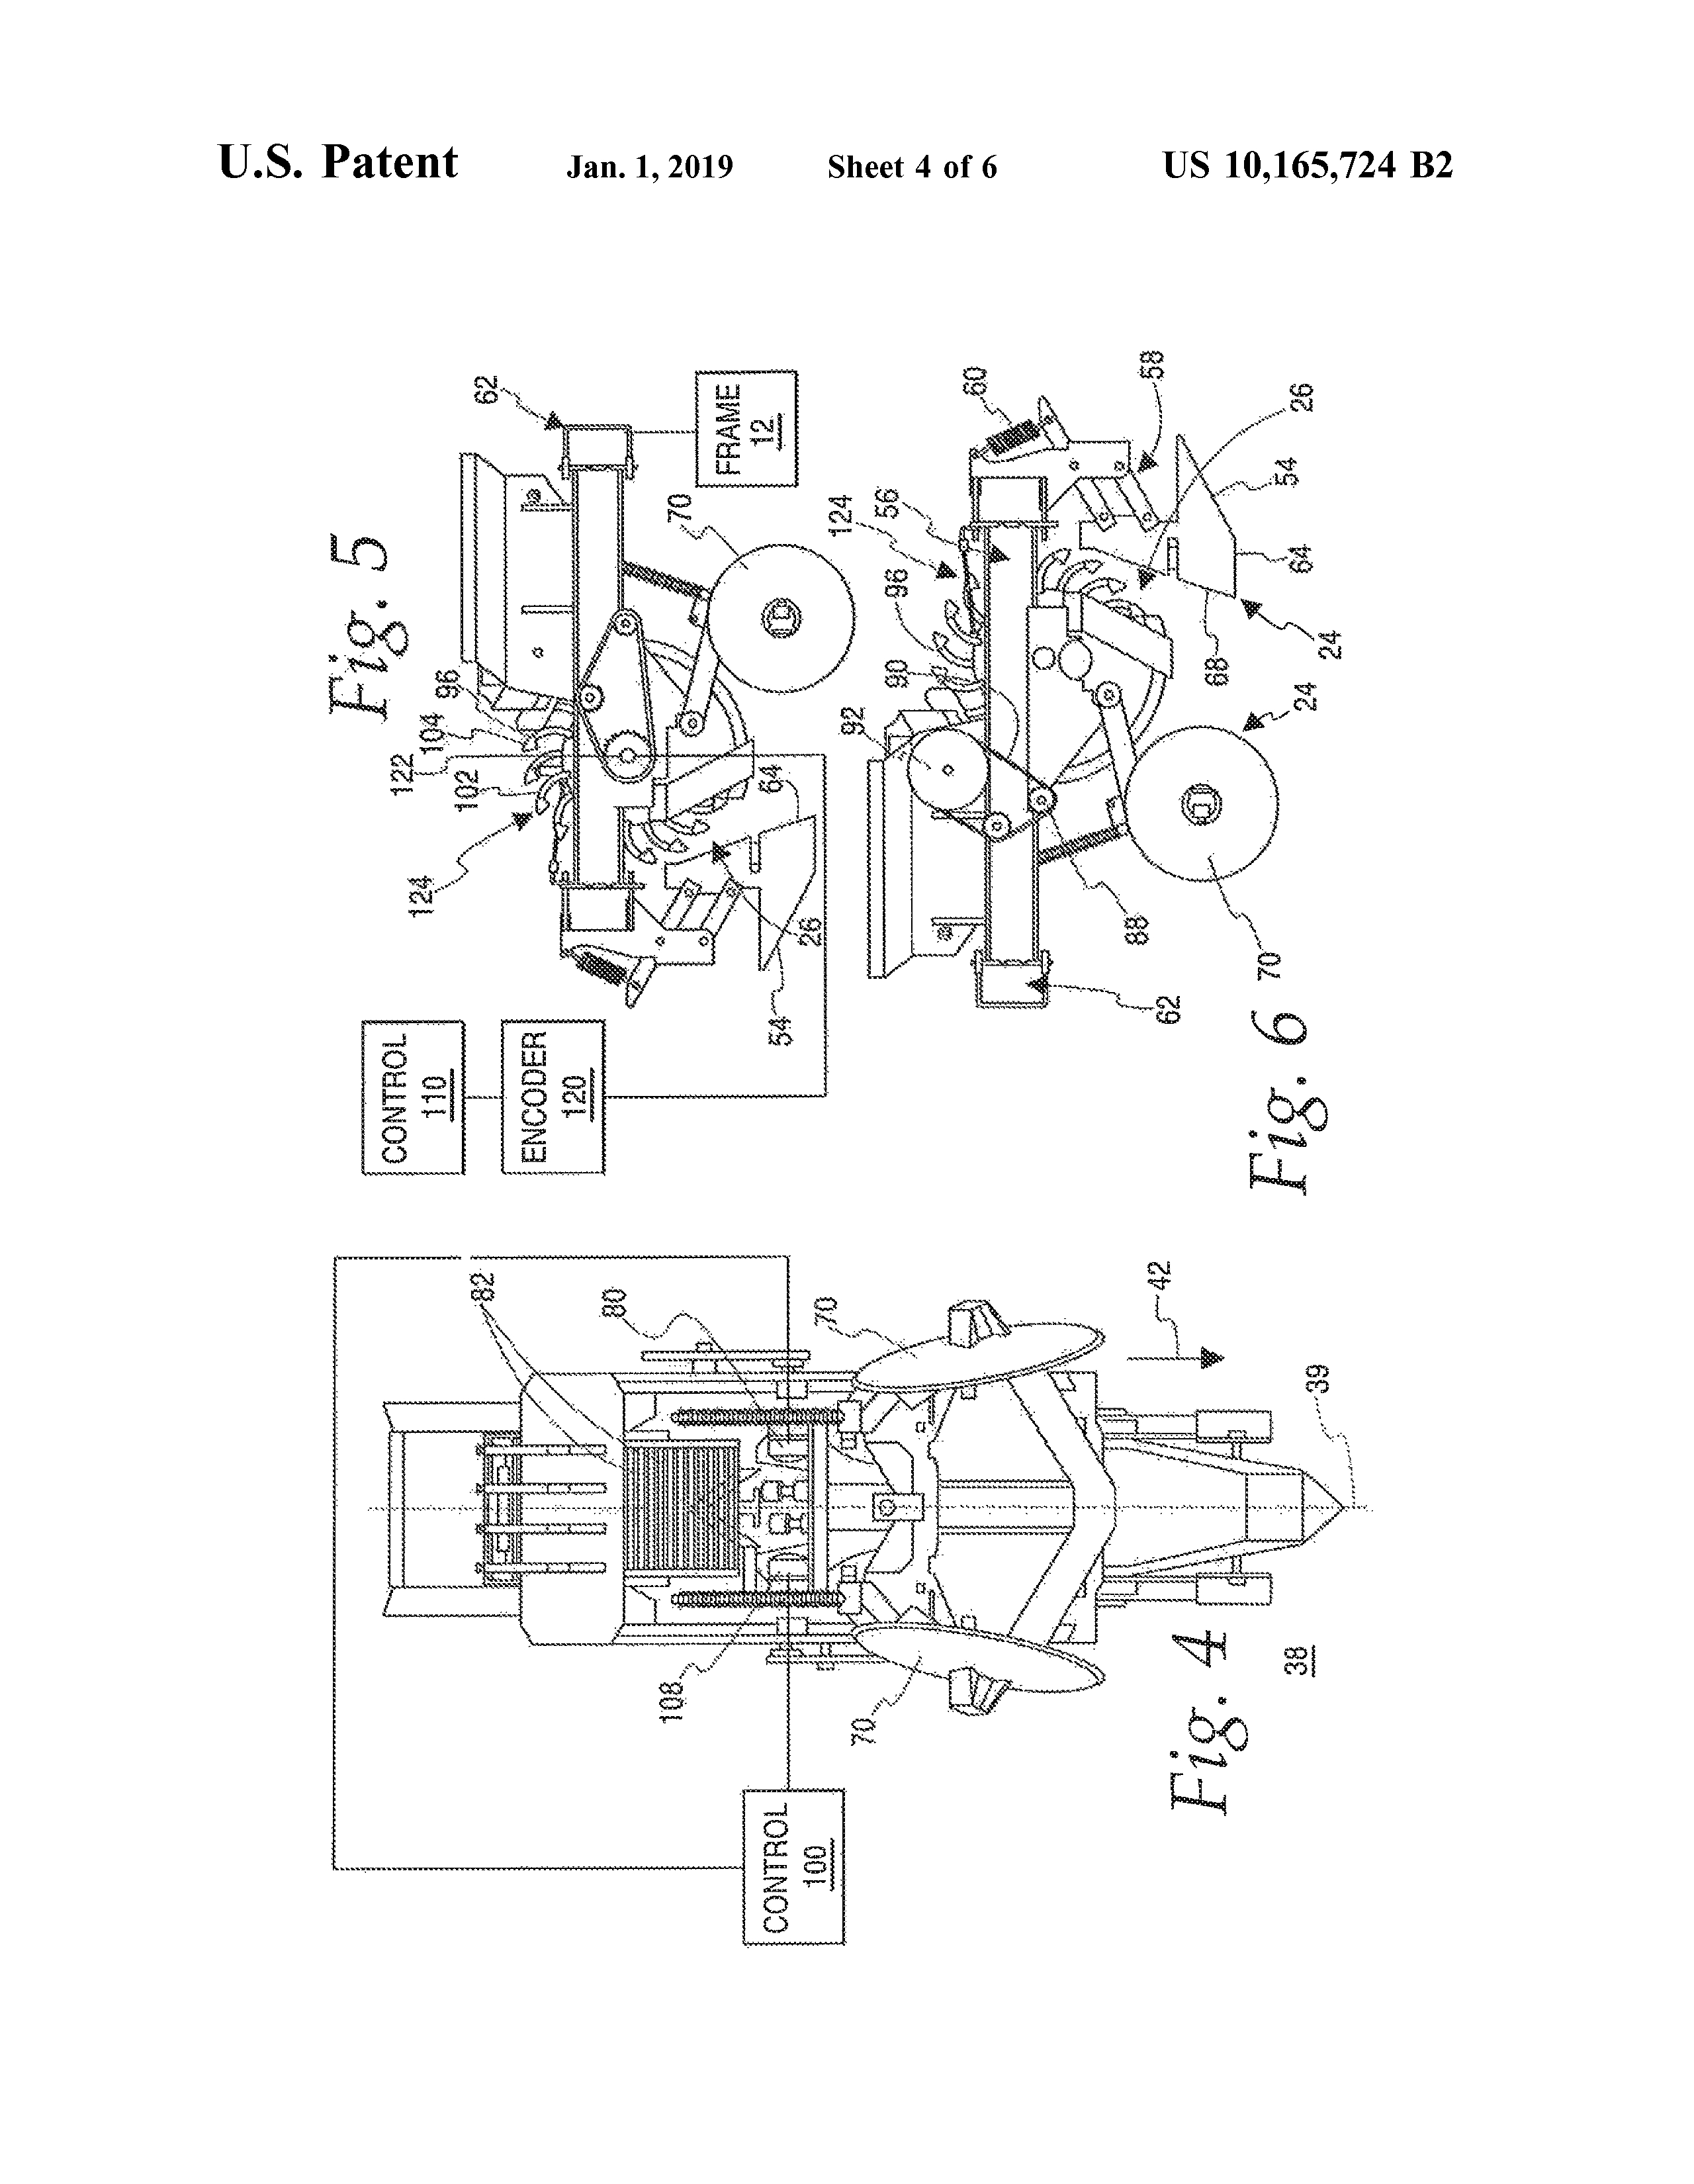patent image: (310, 1240, 1389, 1962), (819, 345, 1374, 1234), (310, 340, 862, 1197)
